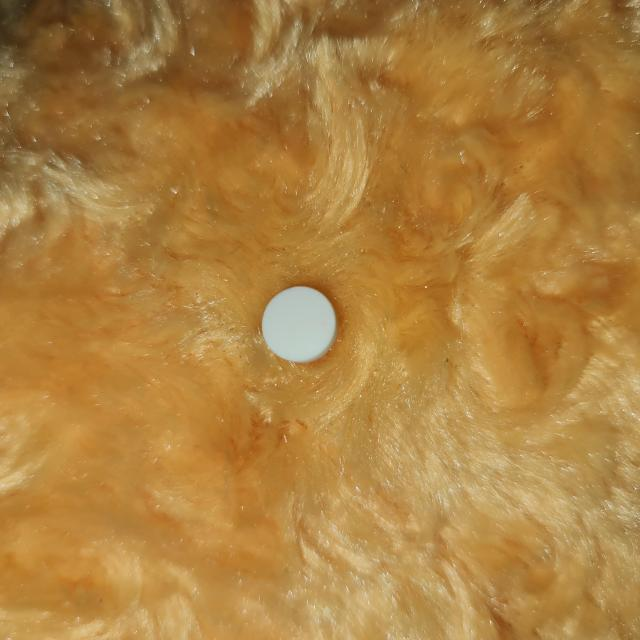pill: (258, 284, 341, 364)
